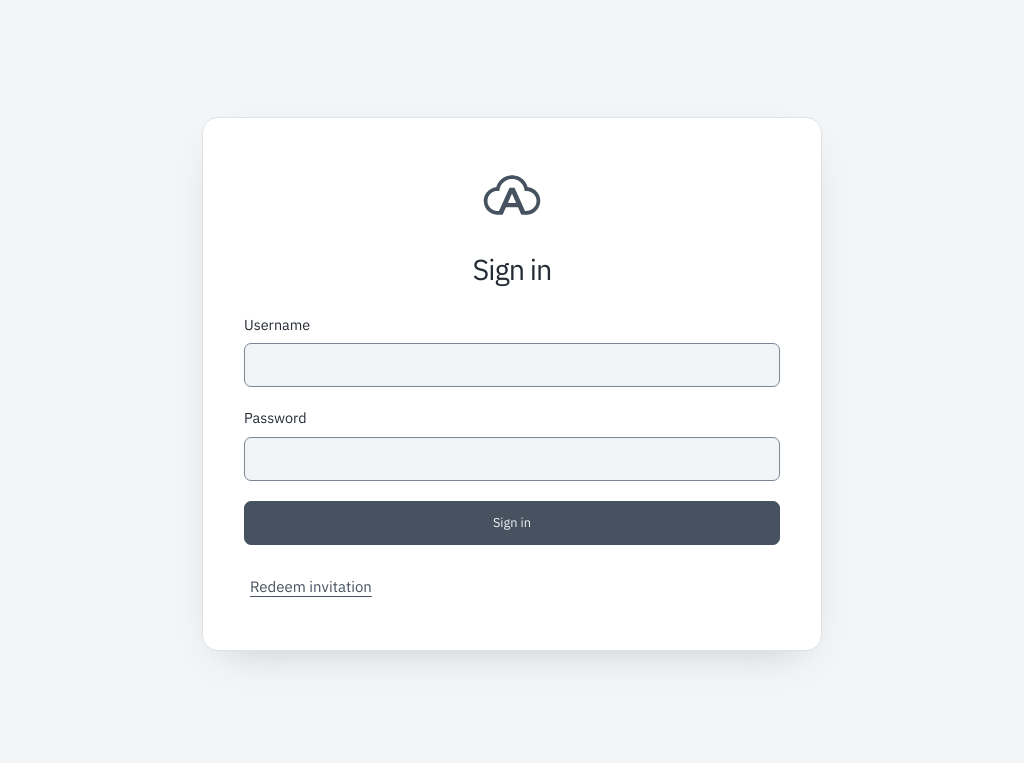
Test case: sign-in preserves the requested System route #system
Expected: the heading "Sign in" is shown, [473, 250, 551, 288]
In the field labelled "Username": [512, 365] box [244, 343, 780, 387], type "ark"
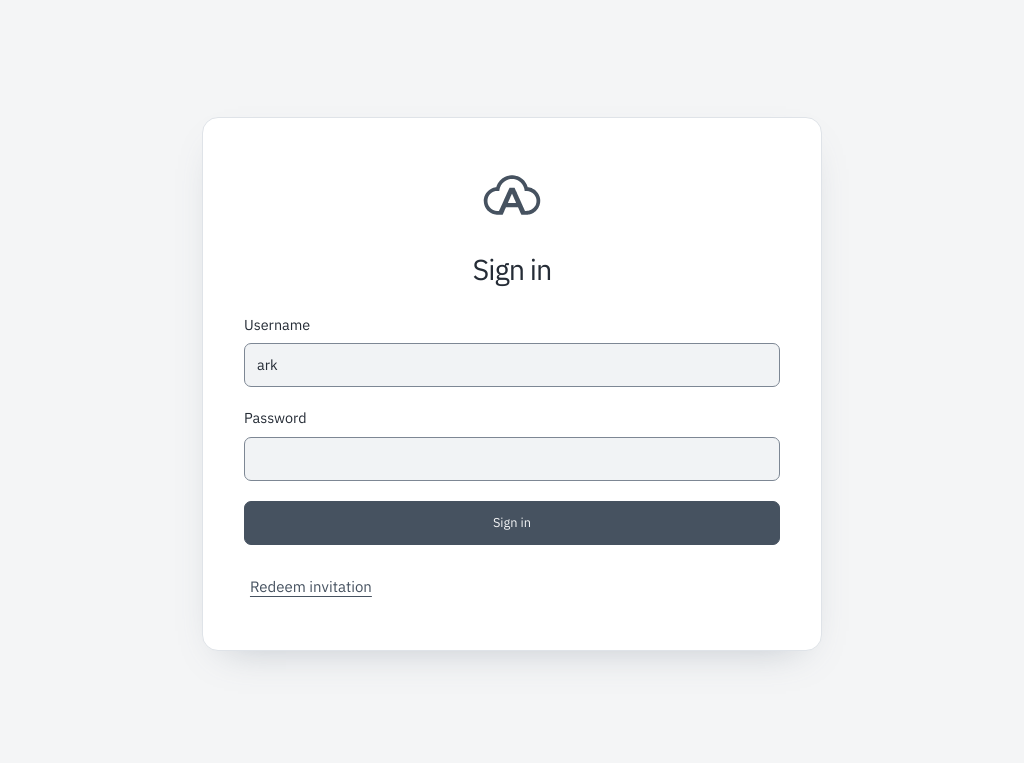
In the password field labelled "Password": [512, 459] box [244, 437, 780, 481], type "test-password"
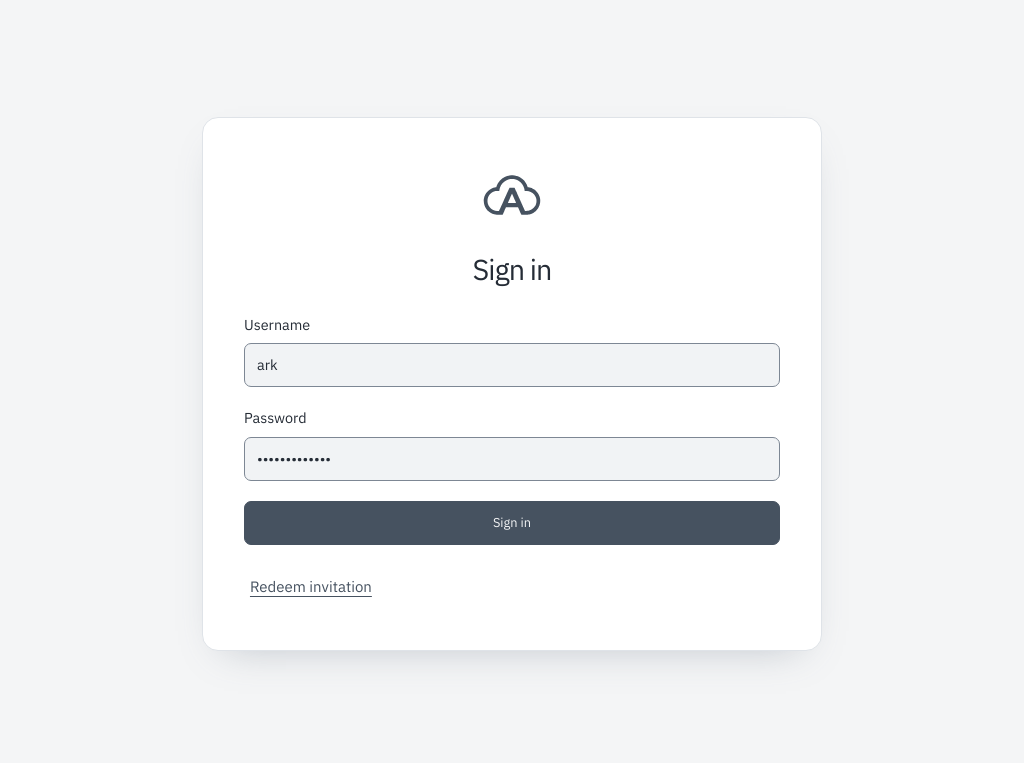
Click the button "Sign in": [512, 523] box [244, 501, 780, 545]
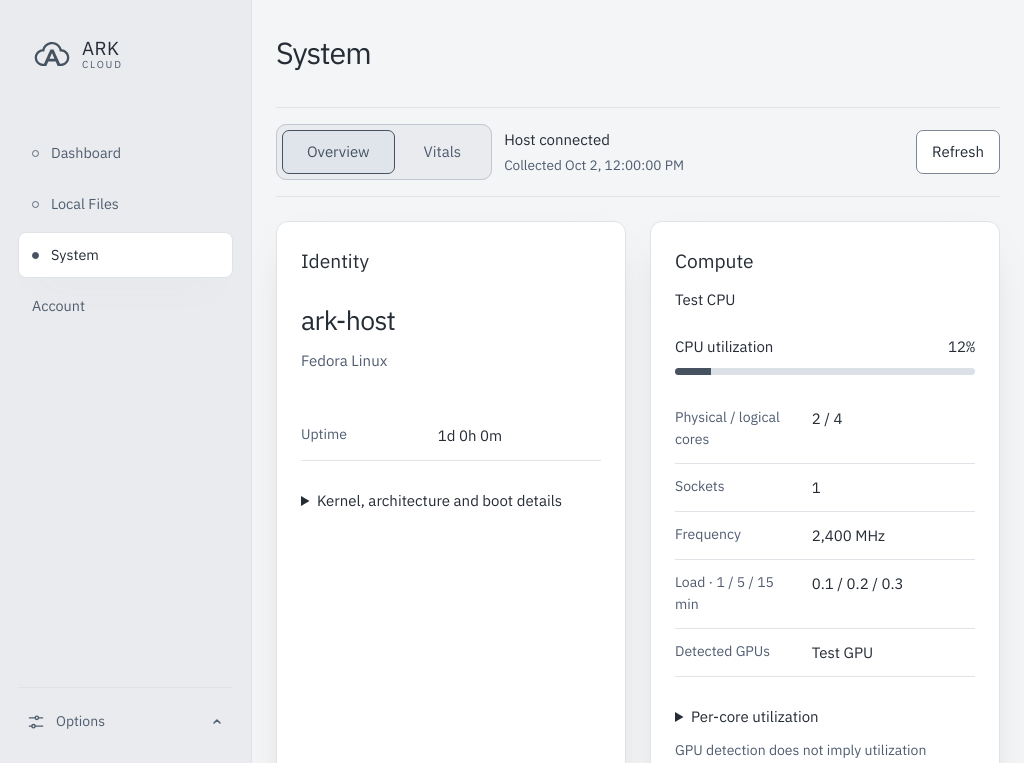
Result: the heading "System" is shown at [276, 36, 371, 71]
Result: the heading "Identity" is shown at [301, 248, 369, 273]
